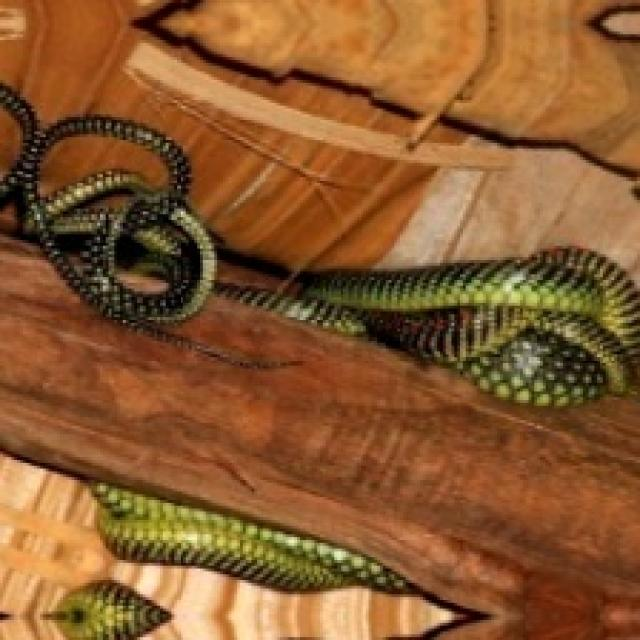paradise tree snake: (0, 234, 637, 637), (0, 469, 269, 637)
